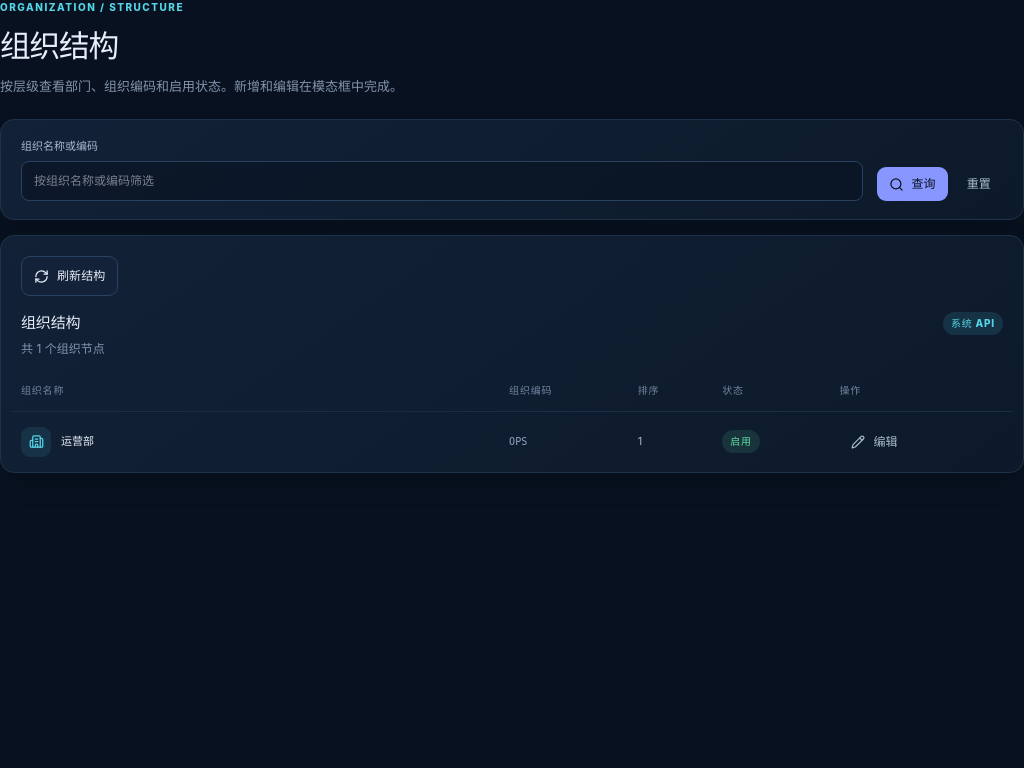
it: DepartmentsPage › 服务端拒绝无写入范围的部门时保留编辑内容并显示错误码
The image size is (1024, 768).
Expected: the text "运营部" is shown, [61,433,94,450]
Click the button "编辑" at coordinates (875, 442), box [839,425,910,459]
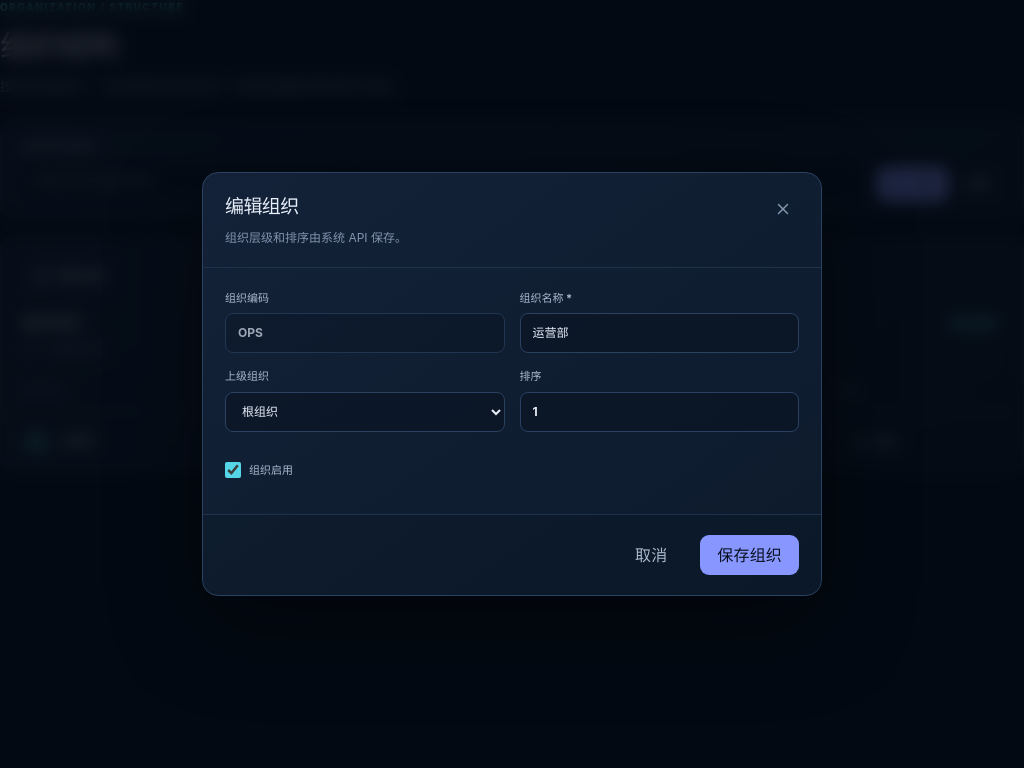
Replace the text in the field labelled "组织名称 *" with "改名后的组织" at coordinates (659, 333), box [520,313,799,353]
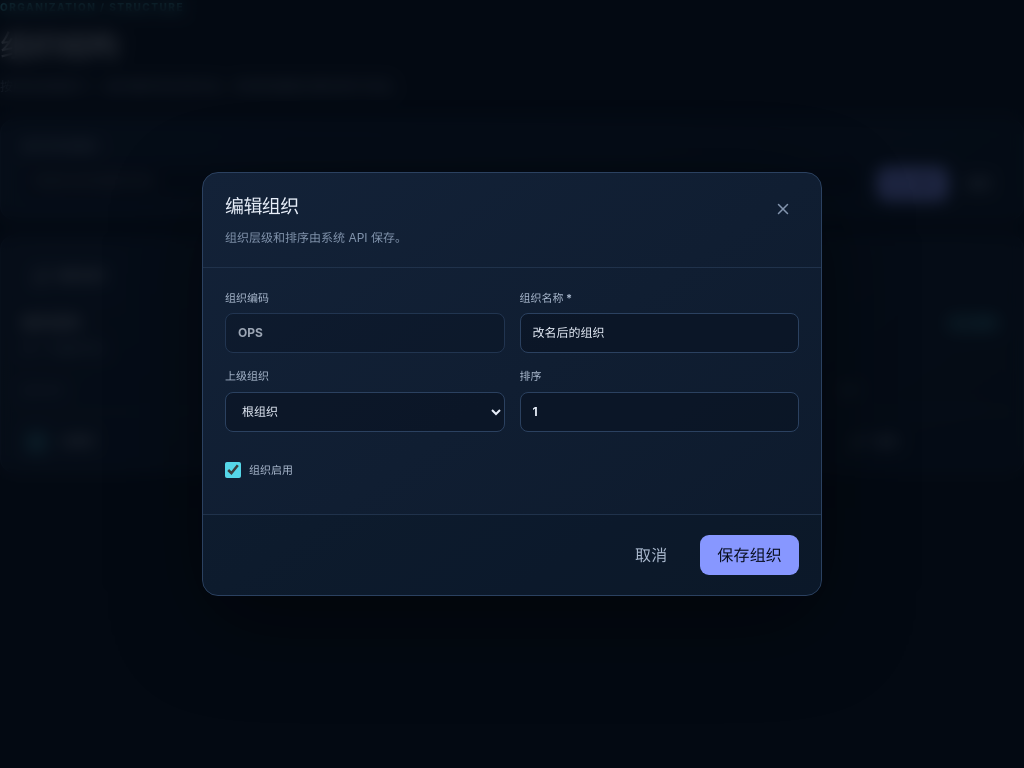
Click the button "保存组织" at coordinates (750, 555), box [700,535,799,575]
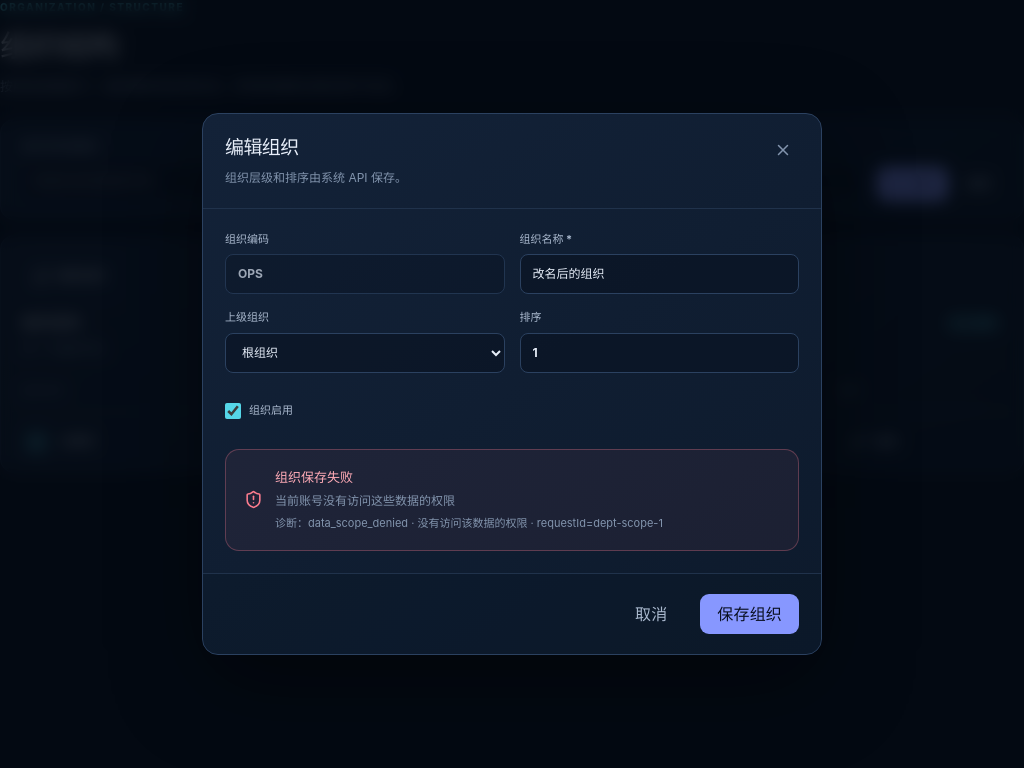
Expected: the text "诊断：data_scope_denied · 没有访问该数据的权限 · requestId=dept-scope-1" is shown, [275,516,663,530]
